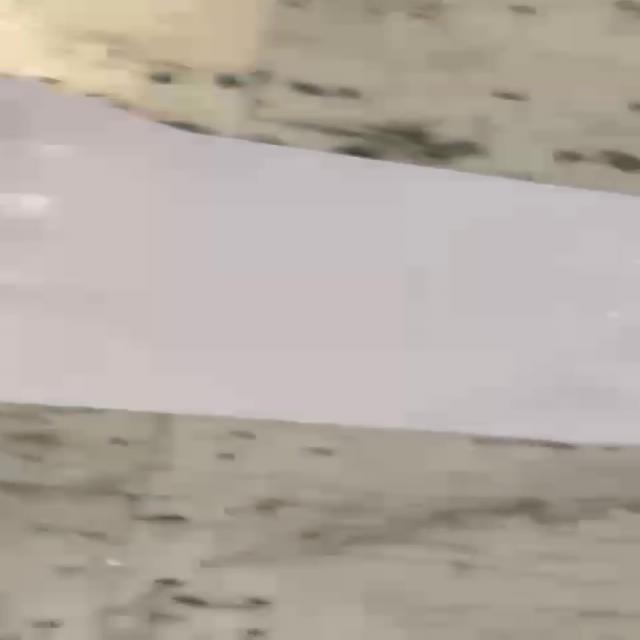road: (0, 75, 640, 449)
